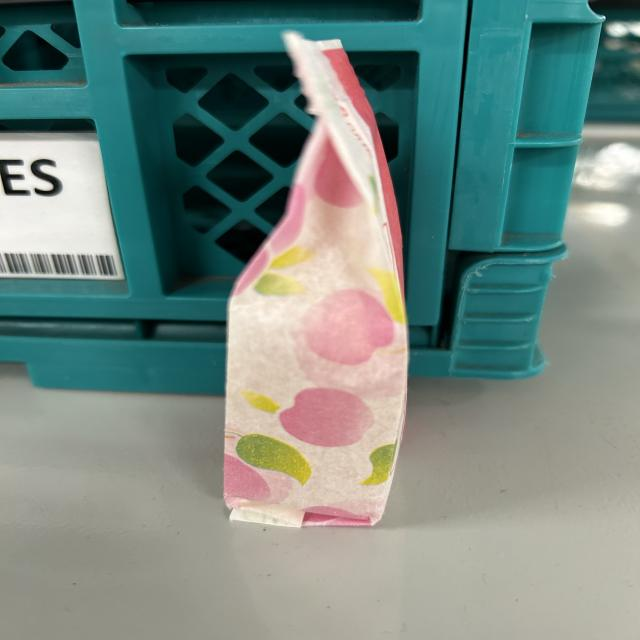object_name: (254, 41, 387, 515)
